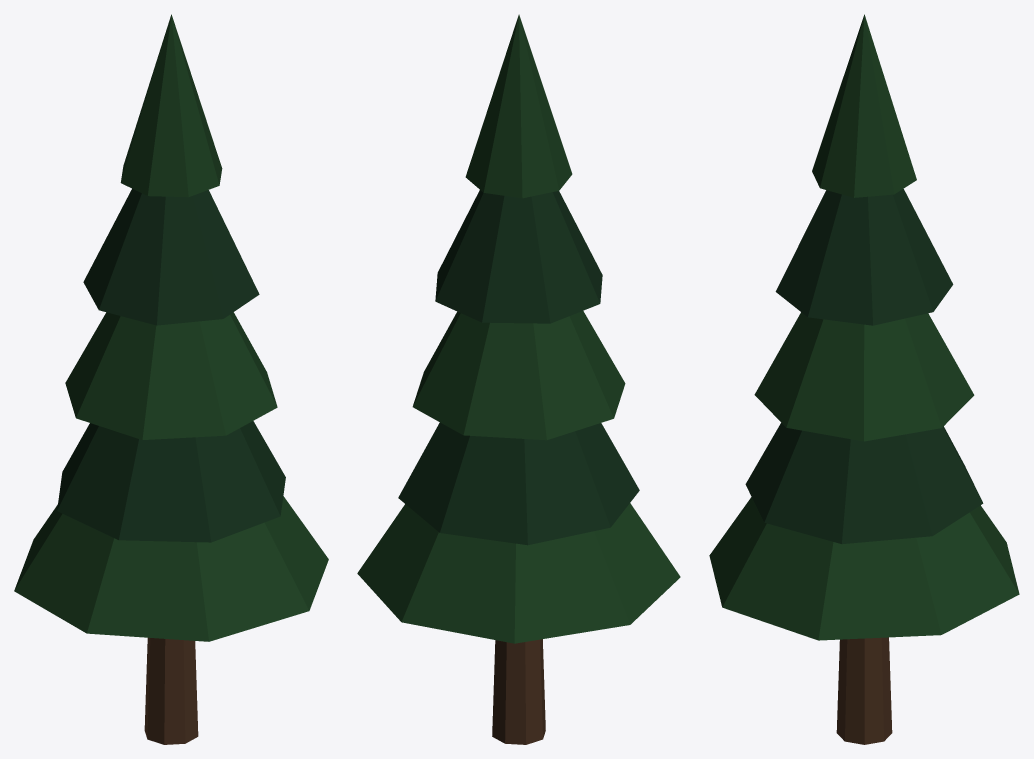
Rendered from pine_0.obj.
3 views of the same model, side by side, from view 1: azimuth 30°, elevation 25°; view 2: azimuth 150°, elevation 25°; view 3: azimuth 270°, elevation 25° (orthographic).
Visible parts, largest first — view 1: pine_0; view 2: pine_0; view 3: pine_0.
Boxes of the visible parts, x1=… form: pine_0: x1=14, y1=14, x2=328, y2=744; pine_0: x1=357, y1=14, x2=680, y2=744; pine_0: x1=709, y1=14, x2=1019, y2=744.
Bounding box in the file's own units: 8.34 × 21.34 × 8.34.
